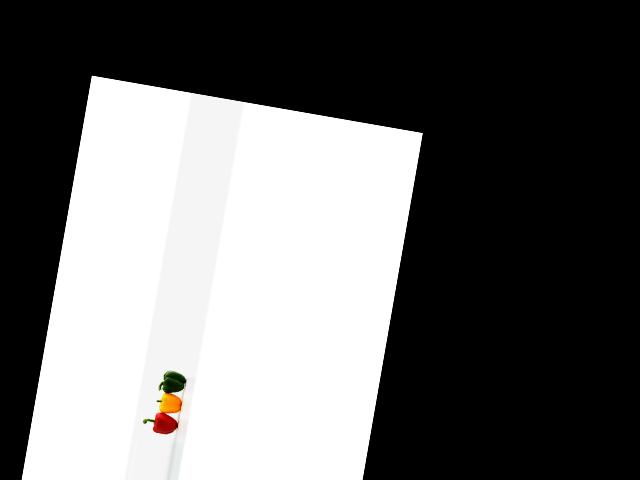bell_pepper: (138, 407, 183, 442)
